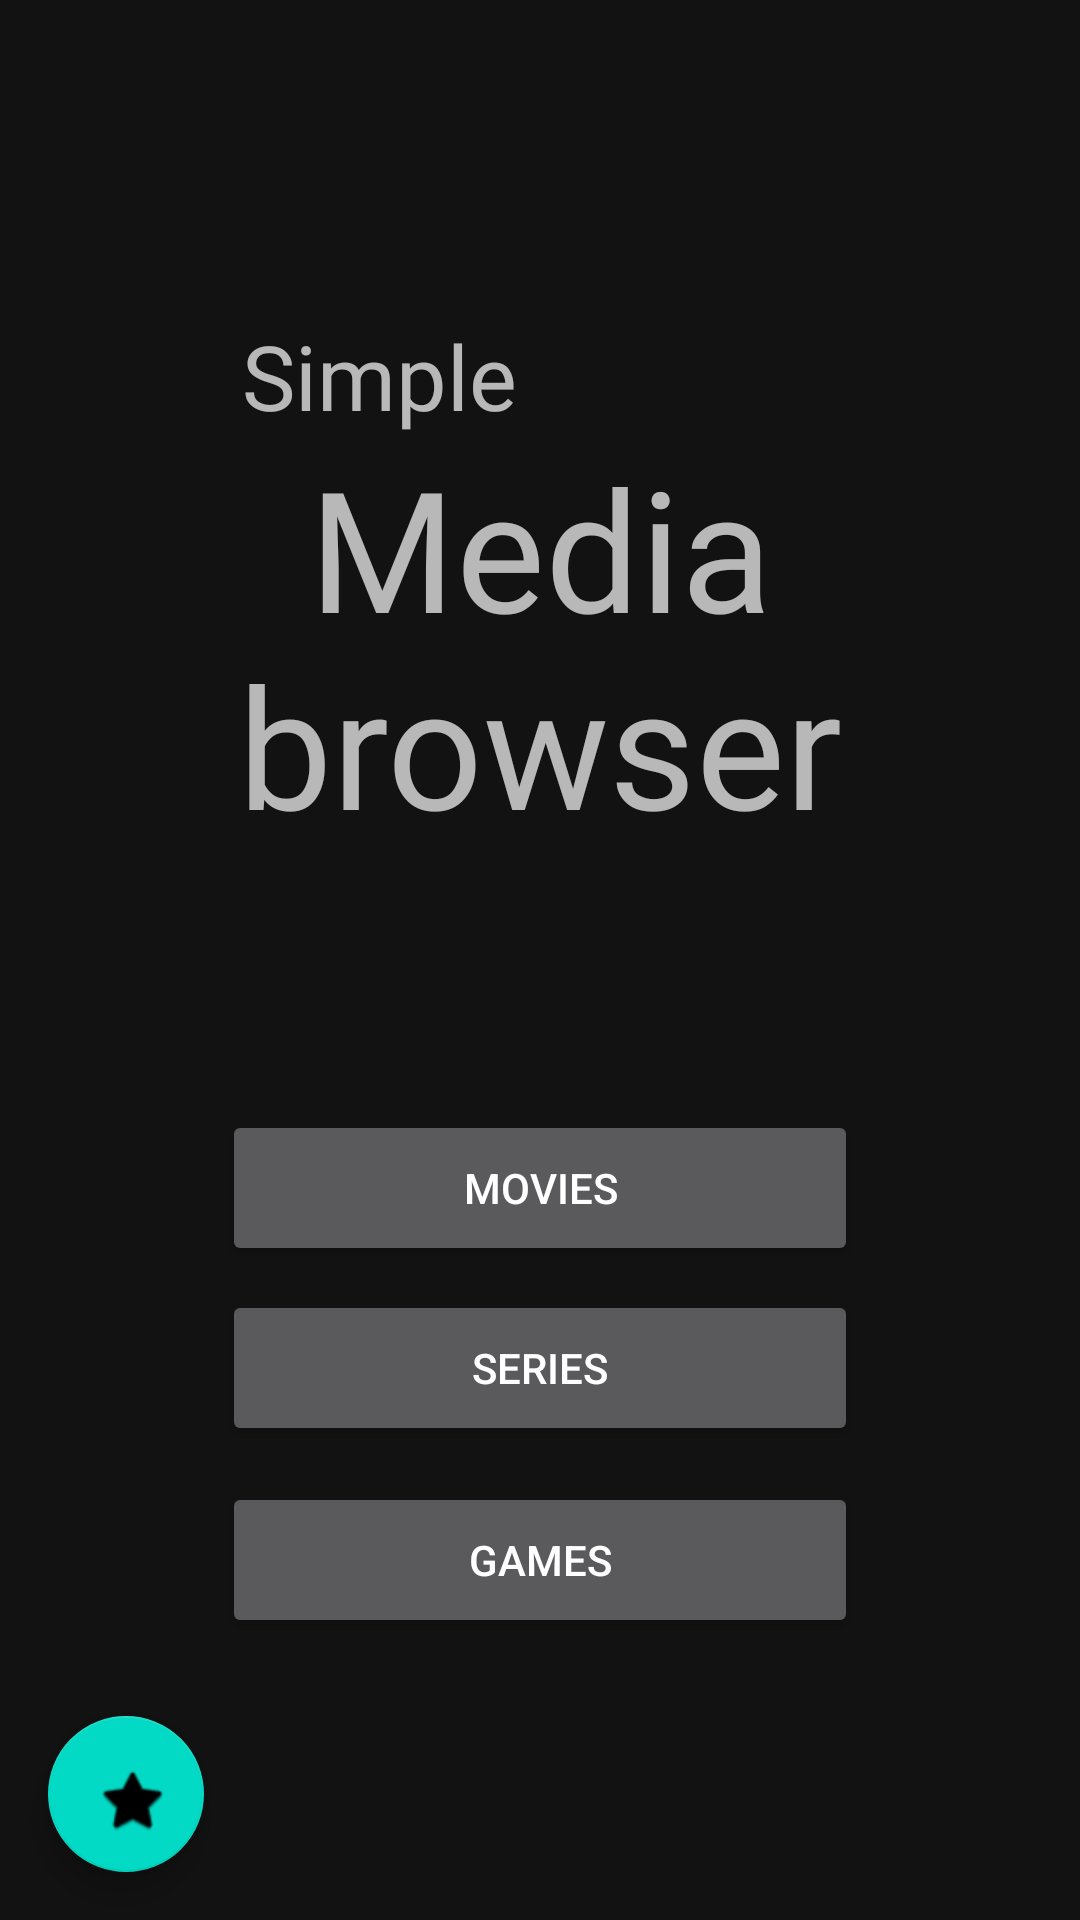

Named icons in this screenshot (1080x1920) and their bounding boxes, bbox(x1, y1, x2, y2):
star on: bbox(48, 1716, 204, 1872)
